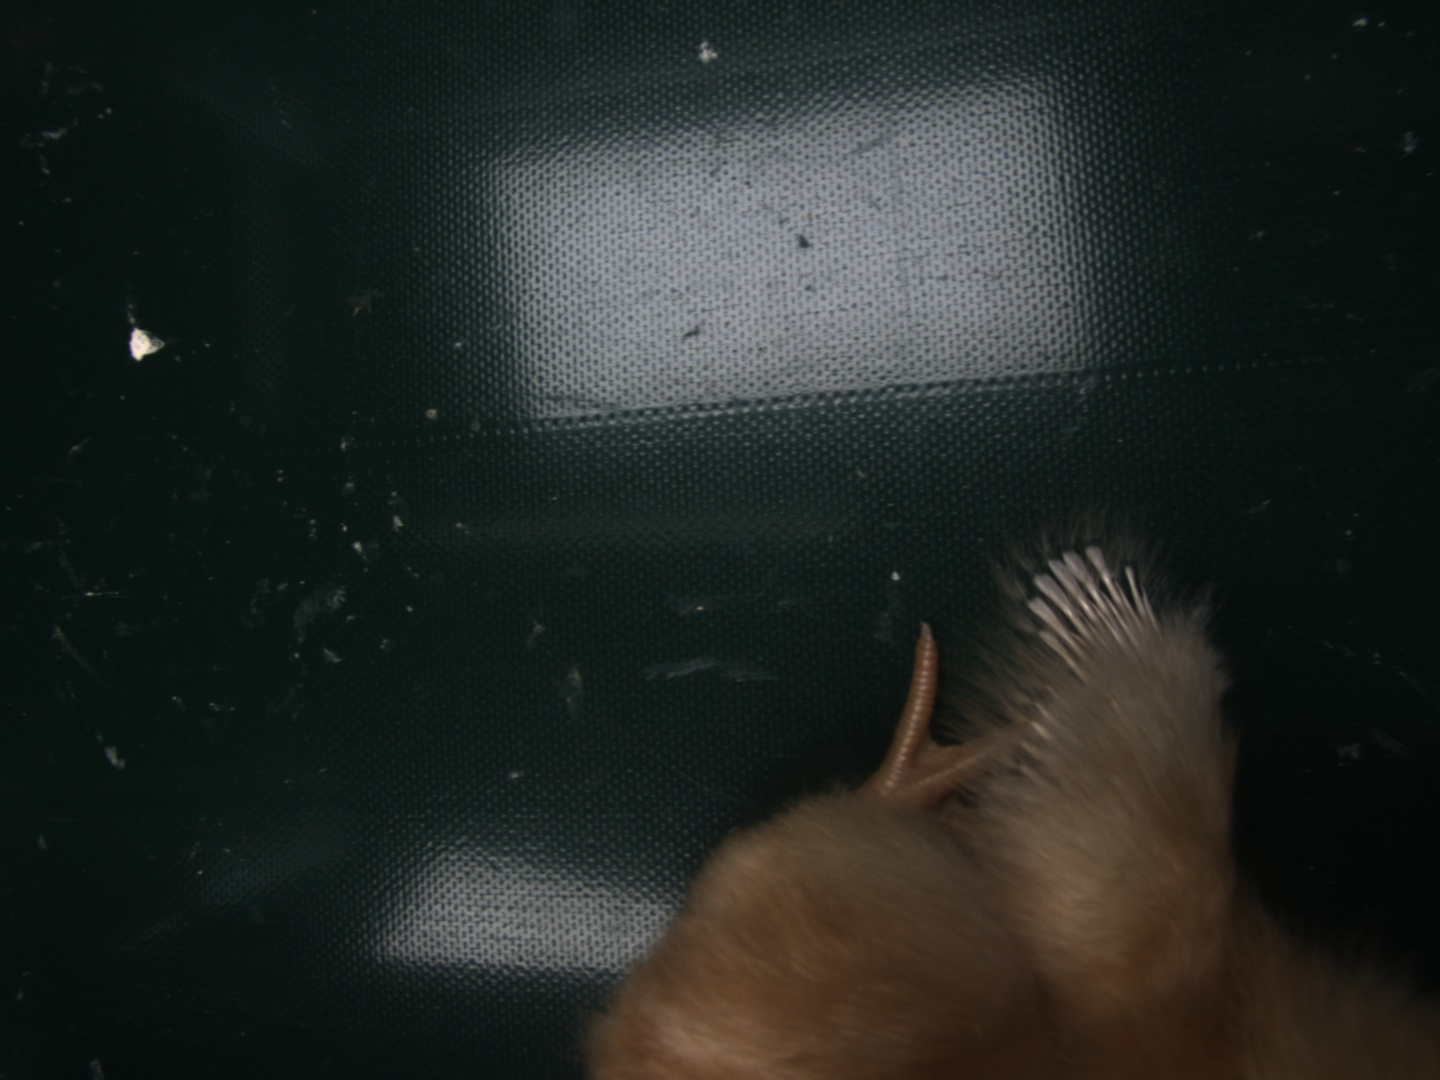female: (1026, 542, 1164, 683)
